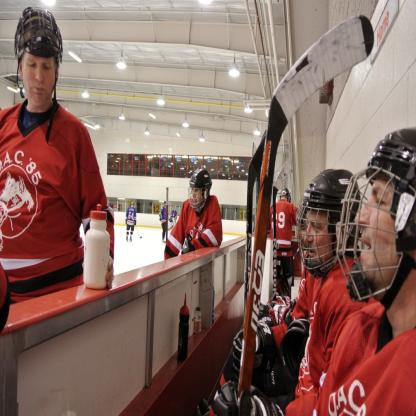Helmet: (334, 126, 416, 312), (294, 168, 361, 278), (14, 4, 63, 99), (188, 168, 212, 217), (278, 186, 290, 202)
